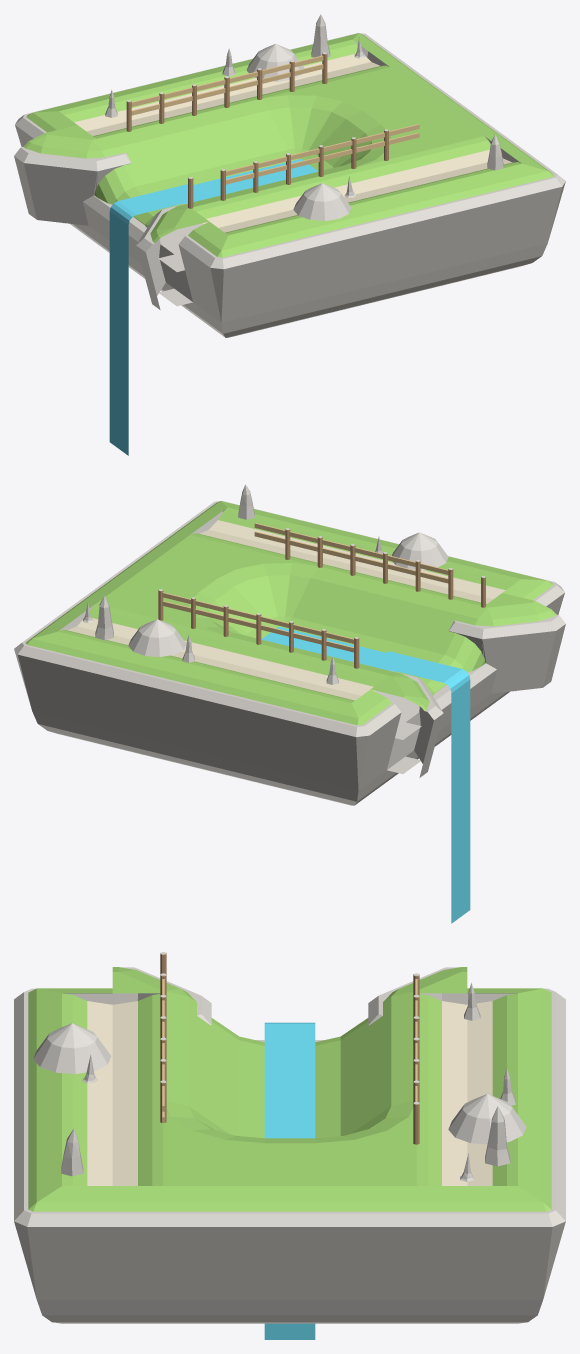
The model's file is floating_island_v3.glb.
3 renders of one model, top to bottom at view 1: azimuth 30°, elevation 25°; view 2: azimuth 150°, elevation 25°; view 3: azimuth 270°, elevation 25°, orthographic. The views are drawn at different scales.
Parts seen in each view (by area): view 1: Grass, Cliff Face, Dirt, Waterfall, Wood Light, Water River, Wood Dark; view 2: Grass, Cliff Face, Dirt, Waterfall, Wood Light, Water River, Wood Dark; view 3: Grass, Cliff Face, Dirt, Water River, Wood Dark, Waterfall, Wood Light.
Part boxes in pixels (x1,y1,x2,y2): Grass: [23, 33, 554, 257]; Cliff Face: [14, 14, 565, 337]; Dirt: [74, 53, 512, 232]; Waterfall: [109, 212, 128, 455]; Wood Light: [131, 55, 419, 184]; Water River: [118, 159, 318, 214]; Wood Dark: [126, 53, 388, 208]; Grass: [25, 501, 556, 725]; Cliff Face: [14, 484, 565, 805]; Dirt: [68, 520, 505, 700]; Waterfall: [451, 680, 470, 923]; Wood Light: [162, 523, 448, 652]; Water River: [261, 626, 461, 682]; Wood Dark: [158, 529, 485, 668]; Grass: [28, 967, 551, 1211]; Cliff Face: [14, 967, 565, 1323]; Dirt: [87, 1001, 492, 1185]; Water River: [264, 1024, 315, 1138]; Wood Dark: [160, 953, 419, 1144]; Waterfall: [264, 1323, 315, 1339]; Wood Light: [162, 979, 417, 1122].
Size of the model in its own units: 1190 by 909 by 1090.
